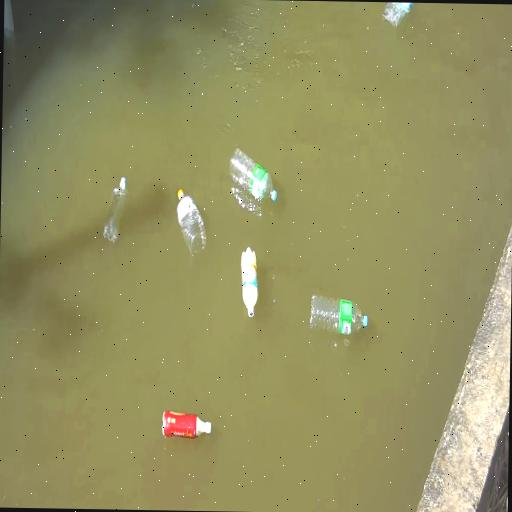plastic: (230, 149, 276, 201), (310, 295, 368, 335), (178, 190, 206, 256), (104, 178, 127, 243), (163, 411, 211, 438), (242, 248, 257, 317), (383, 2, 412, 27)
